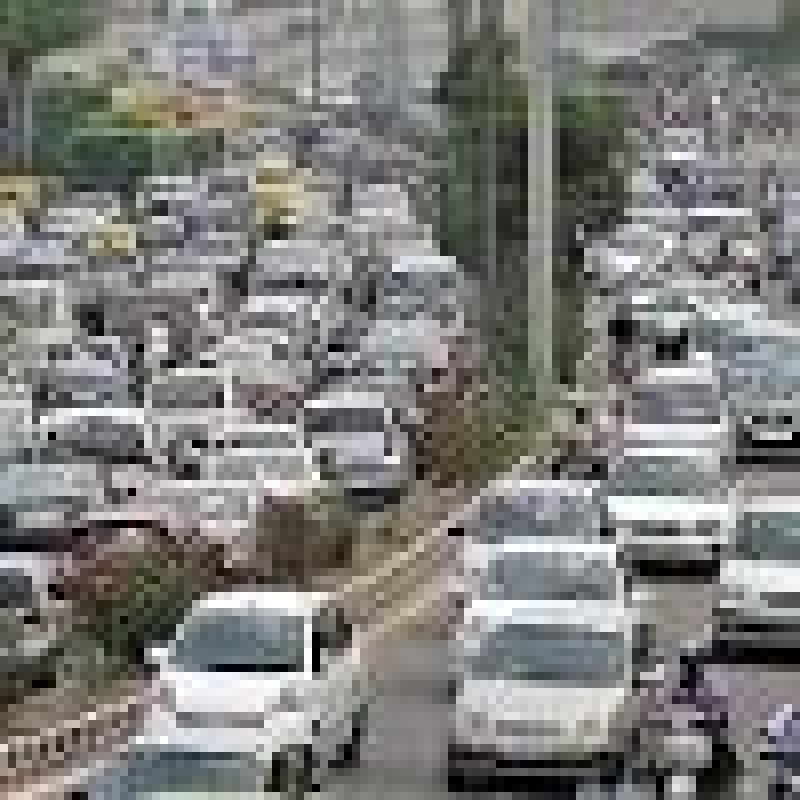car: (148, 589, 398, 754), (483, 606, 638, 761), (448, 460, 616, 587), (27, 398, 225, 493), (616, 444, 740, 557), (726, 466, 800, 624), (302, 394, 398, 511)
